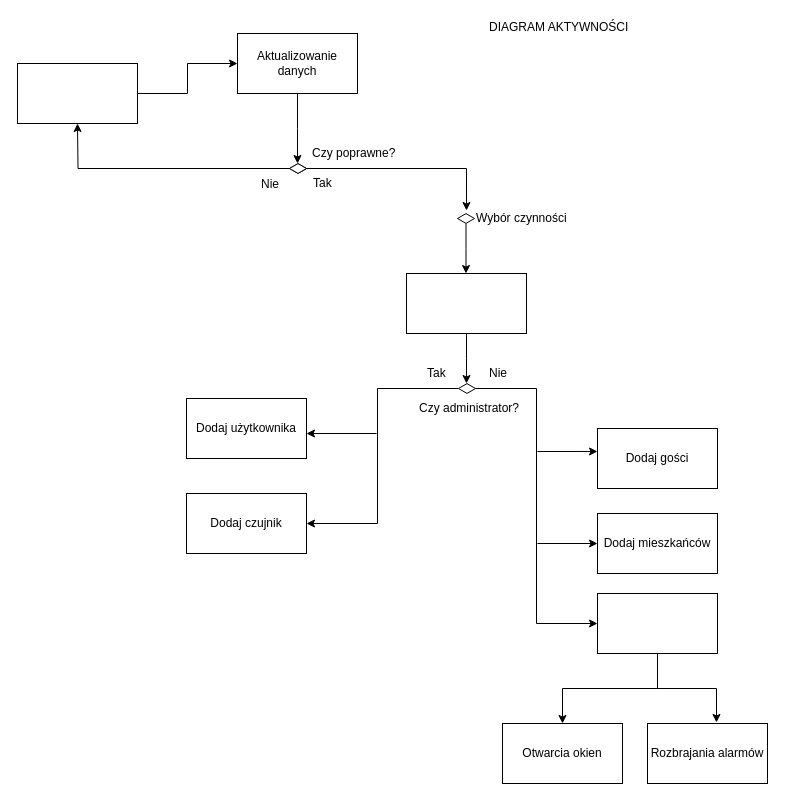
Some shapes in this 785 by 801 pixel diagram are drawn without their labels. Here are the shapes that lost their labels. From the top down, the centre of each, then its label:
the point at 77,93: Podaj dane
the point at 466,303: Sprawdzanie uprawnień
the point at 657,623: Sprawdzanie aktywności
